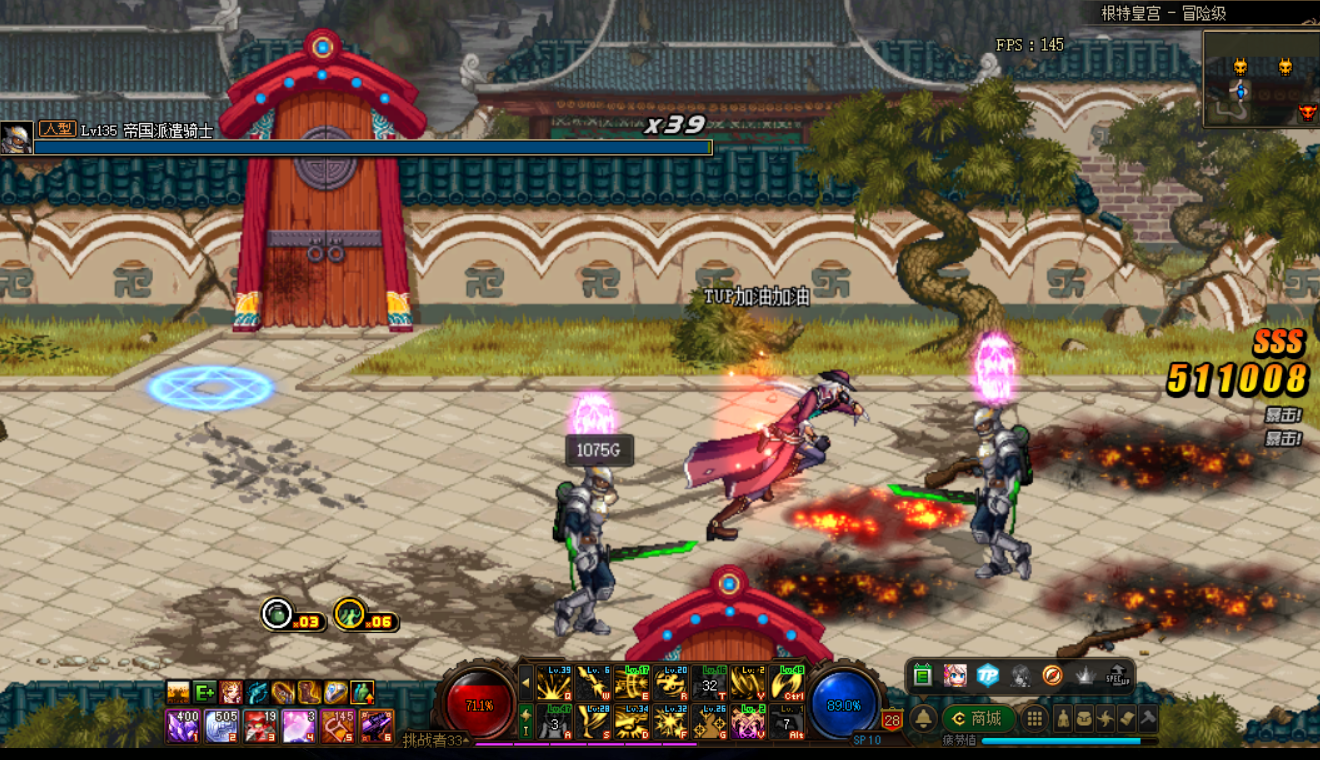monster: (888, 392, 1039, 588), (539, 455, 695, 639)
warrior: (679, 342, 880, 549)
